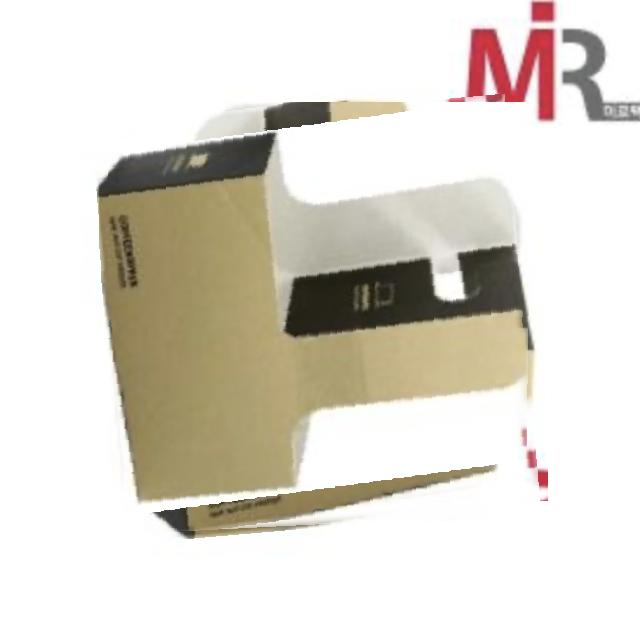biodegradable: (99, 102, 532, 536)
